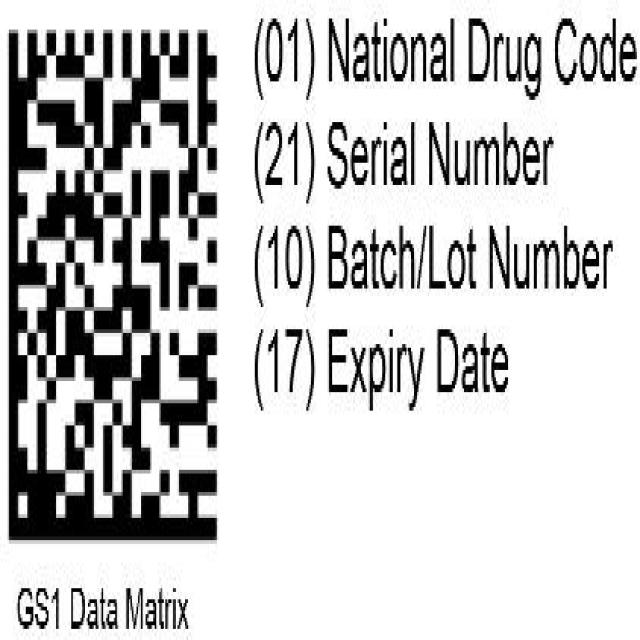datamatrix: (3, 8, 229, 562)
